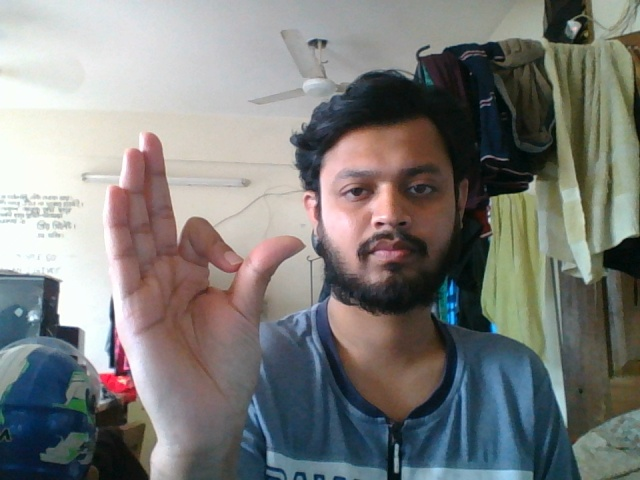uo: (98, 127, 307, 464)
